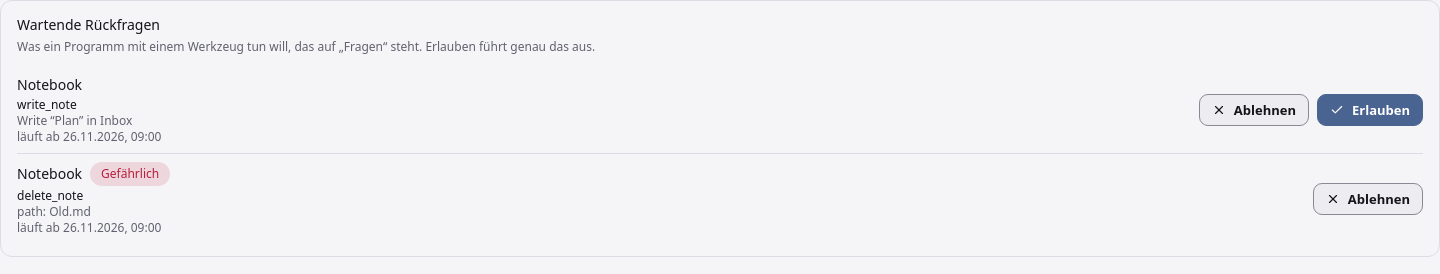
Test: Wartende Rückfragen › declines, and says when nothing waits
Step 1. Click the button with test id "request-decline" → (1368, 199), box [1313,183,1423,215]
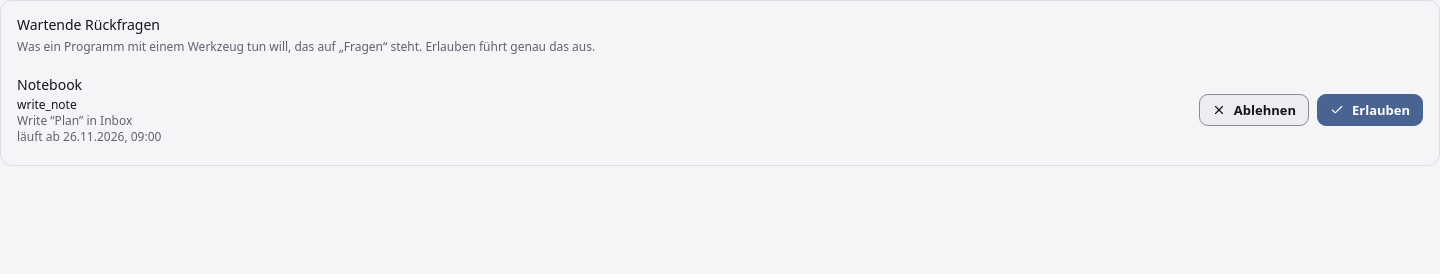
Step 2. Click the button with test id "request-decline" → (1254, 110), box [1199,94,1309,126]
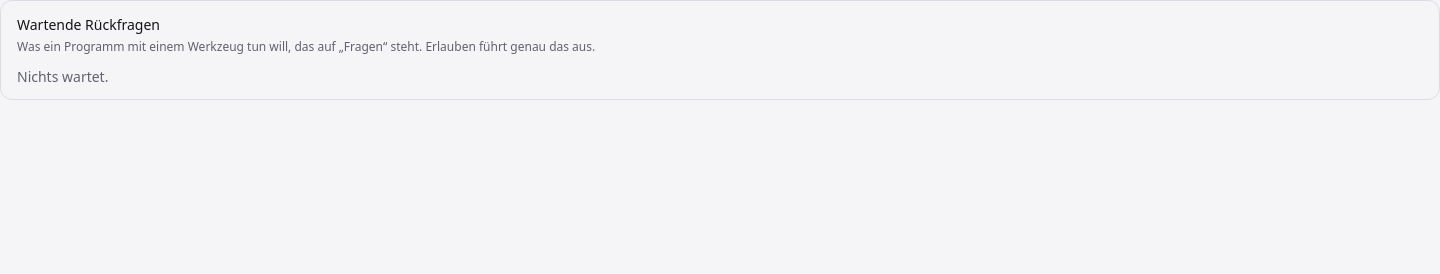
Check: the text with test id "pending-requests-none" reads "Nichts wartet.", box [17,67,108,86]
